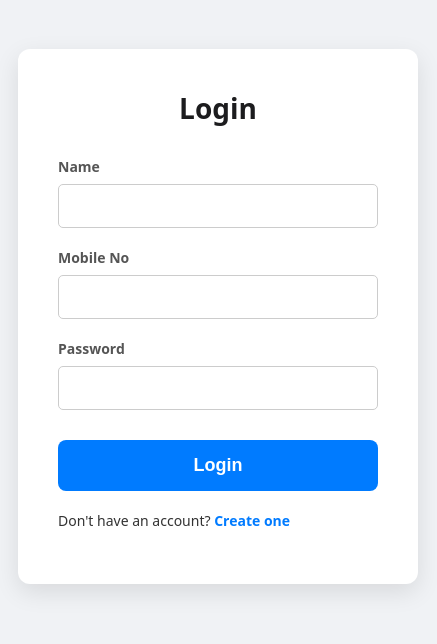
LoginPage Component › should show validation errors for empty fields on submit
Click the button "Login" at (218, 465), box [58,440,378,490]
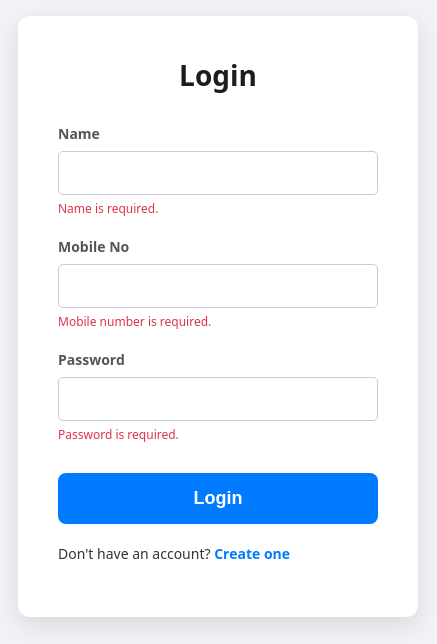
Expected: the text "Name is required." is shown, [58,200,158,216]
Expected: the text "Mobile number is required." is shown, [58,312,211,330]
Expected: the text "Password is required." is shown, [58,426,179,442]
